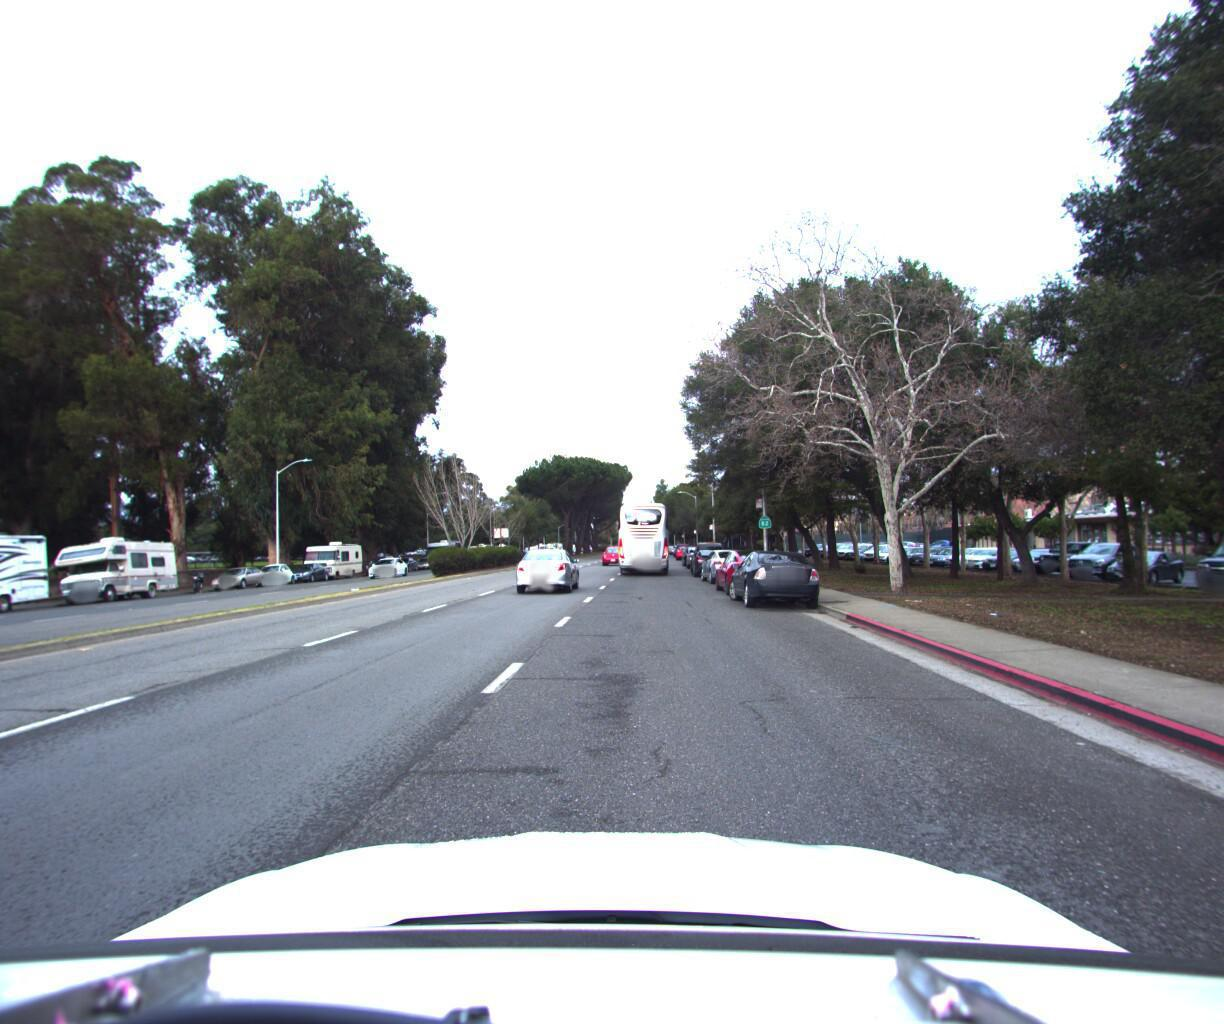bus: (613, 496, 676, 575)
car: (725, 541, 829, 611), (710, 541, 791, 596), (513, 543, 583, 592), (697, 541, 757, 582), (208, 562, 274, 590), (687, 541, 734, 574), (250, 557, 300, 585), (283, 557, 335, 583), (363, 549, 413, 573), (595, 539, 623, 562), (674, 537, 695, 554)
motorcycle: (189, 565, 215, 592)
other_vehicle: (44, 531, 187, 605), (0, 517, 66, 637), (299, 535, 367, 578)
